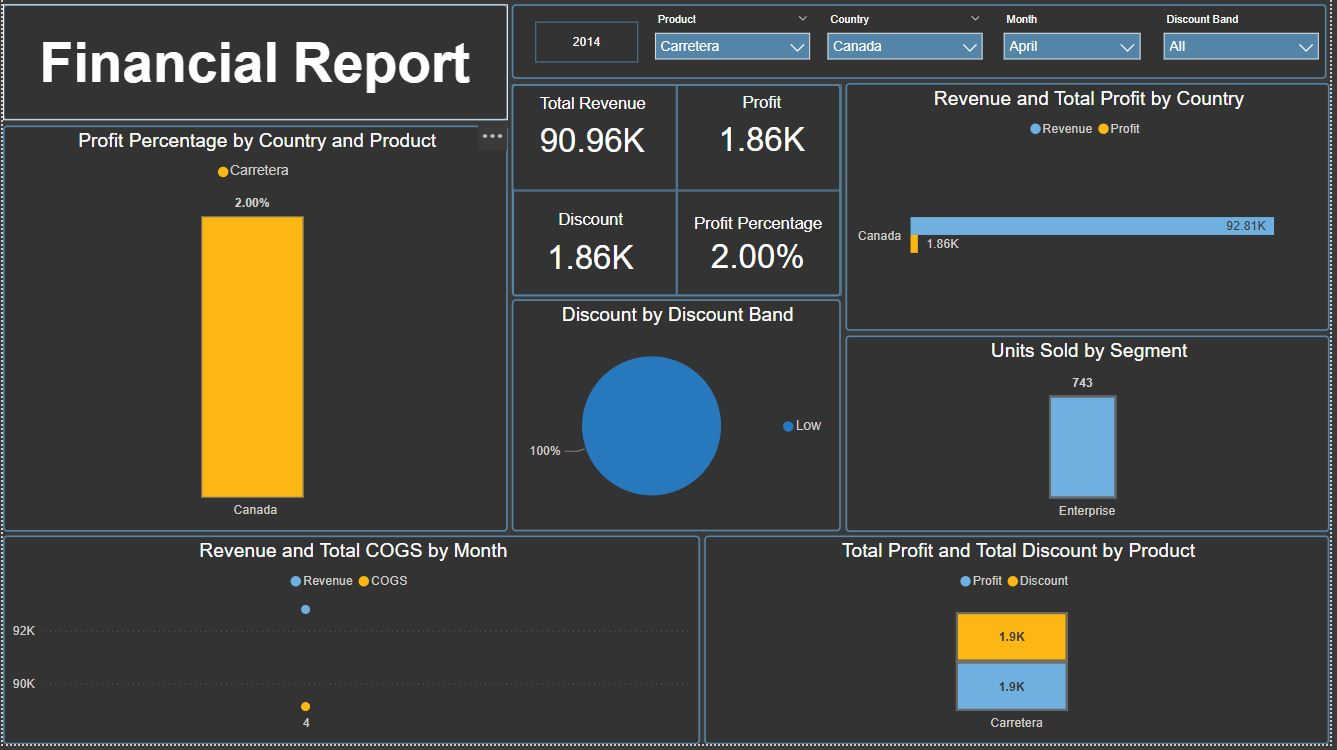

The dashboard page shown, as its layout file describes it:
{"tool":"powerbi","page":{"name":"Page 1","canvas":[1280,720],"ordinal":0},"visuals":[{"type":"shape","box":[491,6,786.6,72.4],"z":0},{"type":"shape","box":[491,83.2,317.3,205.1],"z":1000},{"type":"lineChart","title":"Revenue and Total COGS by Month","fields":{"Category":["financial_sample_week5.Month Number"],"Y":["Sum(financial_sample_week5.Gross Sales)","Sum(financial_sample_week5.COGS)"]},"box":[0,518.8,673.2,201.5],"z":2000},{"type":"card","title":"Total Revenue","fields":{"Values":["Sum(financial_sample_week5. Sales)"]},"box":[465.7,92.9,206.3,71.2],"z":3000},{"type":"card","title":"Profit","fields":{"Values":["Sum(financial_sample_week5.Profit)"]},"box":[638.2,91.7,188.2,71.2],"z":4000},{"type":"card","title":"Discount","fields":{"Values":["Sum(financial_sample_week5.Discount)"]},"box":[476.5,205.1,181,72.4],"z":5000},{"type":"card","title":"Profit Percentage","fields":{"Values":["financial_sample_week5.Profit Percentage"]},"box":[628.6,208.7,200.3,62.7],"z":6000},{"type":"slicer","fields":{"Values":["financial_sample_week5.Month Name"]},"box":[955.5,9.7,152,53.1],"z":7000},{"type":"columnChart","title":"Total Profit and Total Discount by Product","fields":{"Y":["Sum(financial_sample_week5.Profit)","Sum(financial_sample_week5.Discount)"],"Category":["financial_sample_week5.Product"]},"box":[676.8,518.5,603.2,201.5],"z":8000},{"type":"slicer","fields":{"Values":["financial_sample_week5.Discount Band"]},"box":[1109.9,9.7,170.1,60.3],"z":9000},{"type":"pieChart","title":"Discount by Discount Band","fields":{"Y":["Sum(financial_sample_week5.Discount)"],"Category":["financial_sample_week5.Discount Band"]},"box":[491,290.8,317.3,224],"z":10000},{"type":"clusteredBarChart","title":"Revenue and Total Profit by Country","fields":{"Category":["financial_sample_week5.Country"],"Y":["Sum(financial_sample_week5.Gross Sales)","Sum(financial_sample_week5.Profit)"]},"box":[813.1,82,466.9,238.9],"z":11000},{"type":"slicer","fields":{"Values":["financial_sample_week5.Year"]},"box":[487.4,15.7,149.6,53.1],"z":12000},{"type":"clusteredColumnChart","title":"Units Sold by Segment","fields":{"Category":["financial_sample_week5.Segment"],"Y":["Sum(financial_sample_week5.Units Sold)"]},"box":[813.1,325.7,466.9,189.4],"z":13000},{"type":"slicer","fields":{"Values":["financial_sample_week5.Country"]},"box":[785.4,9.7,170.1,60.3],"z":14000},{"type":"slicer","fields":{"Values":["financial_sample_week5.Product"]},"box":[618.9,9.7,170.1,60.3],"z":15000},{"type":"shape","box":[491,83.2,159.3,102.5],"z":16000},{"type":"shape","box":[650.3,83.2,159.3,102.5],"z":17000},{"type":"shape","box":[650.3,185.8,159.3,101.3],"z":18000},{"type":"shape","box":[492.2,185.8,158,101.3],"z":19000},{"type":"columnChart","fields":{"Category":["financial_sample_week5.Country"],"Y":["financial_sample_week5.Profit Percentage"],"Series":["financial_sample_week5.Product"]},"box":[0,123.1,487.4,392.1],"z":20000},{"type":"shape","box":[0,6,487.4,112.2],"z":20001},{"type":"textbox","box":[30.2,27.7,446.4,82],"z":20002}]}

Visuals, with their boxes in screenshot pixels (x1, y1, x2, y2), scaled from the page's 1280x720 canvas onto the 1337x750 screenshot:
shape: (513, 6, 1334, 82)
shape: (513, 87, 844, 300)
"Revenue and Total COGS by Month" lineChart: (0, 540, 703, 749)
"Total Revenue" card: (486, 97, 702, 171)
"Profit" card: (667, 96, 863, 170)
"Discount" card: (498, 214, 687, 289)
"Profit Percentage" card: (657, 217, 866, 283)
slicer - financial_sample_week5.Month Name: (998, 10, 1157, 65)
"Total Profit and Total Discount by Product" columnChart: (707, 540, 1336, 749)
slicer - financial_sample_week5.Discount Band: (1159, 10, 1336, 73)
"Discount by Discount Band" pieChart: (513, 303, 844, 536)
"Revenue and Total Profit by Country" clusteredBarChart: (849, 85, 1336, 334)
slicer - financial_sample_week5.Year: (509, 16, 665, 72)
"Units Sold by Segment" clusteredColumnChart: (849, 339, 1336, 537)
slicer - financial_sample_week5.Country: (820, 10, 998, 73)
slicer - financial_sample_week5.Product: (646, 10, 824, 73)
shape: (513, 87, 679, 193)
shape: (679, 87, 846, 193)
shape: (679, 194, 846, 299)
shape: (514, 194, 679, 299)
columnChart - financial_sample_week5.Country x financial_sample_week5.Profit Percentage: (0, 128, 509, 537)
shape: (0, 6, 509, 123)
textbox: (32, 29, 498, 114)
